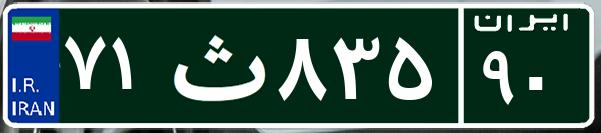0: (525, 38, 570, 115)
1: (110, 28, 158, 105)
3: (330, 28, 385, 110)
5: (385, 28, 445, 110)
7: (57, 26, 110, 107)
8: (273, 28, 330, 110)
9: (475, 38, 525, 113)
ث: (158, 15, 273, 115)
